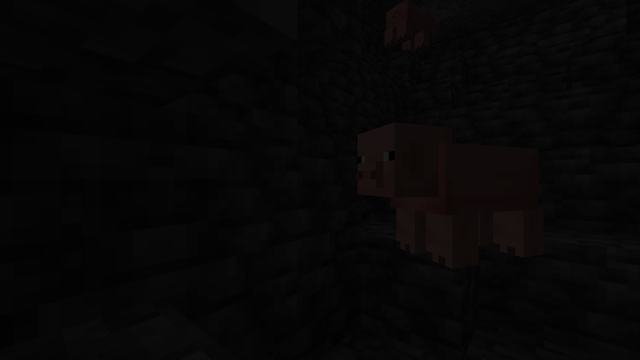cochons: (389, 135, 527, 279), (384, 0, 432, 54)
